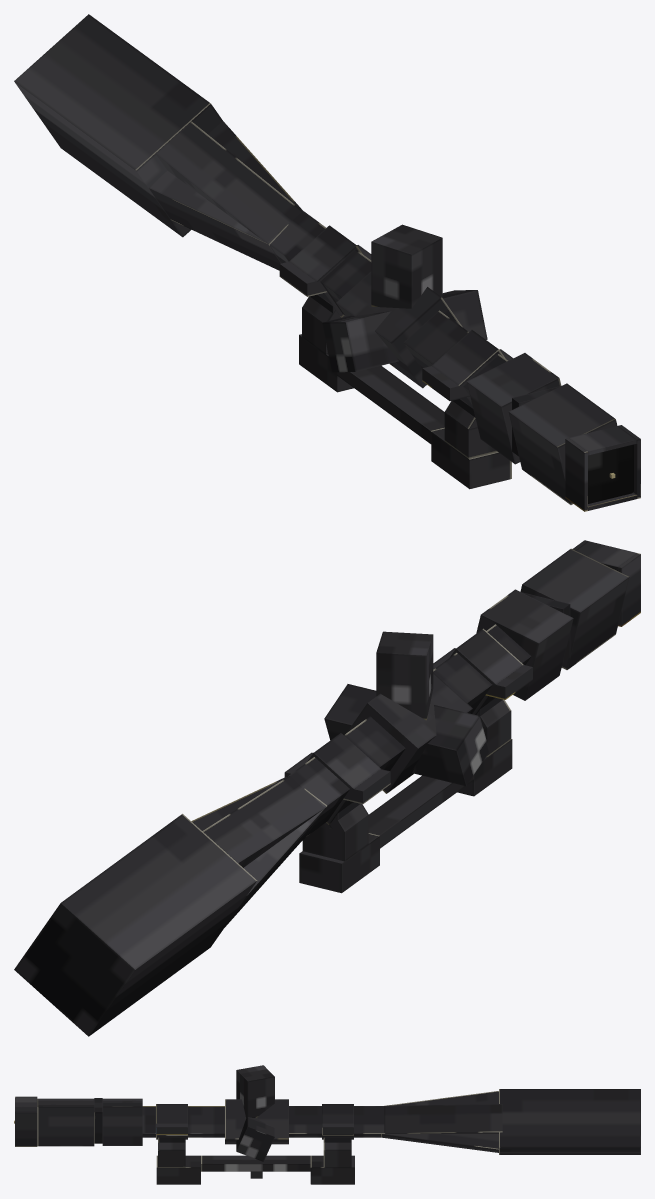
The model's file is drake scope.obj.
3 renders of one model, top to bottom at view 1: azimuth 30°, elevation 25°; view 2: azimuth 150°, elevation 25°; view 3: azimuth 270°, elevation 25°, orthographic. The views are drawn at different scales.
Parts seen in each view (by area): view 1: gun_32, scopepip_1; view 2: gun_32; view 3: gun_32.
Part boxes in pixels (<box>): gun_32: <box>14,14,640,511</box>; scopepip_1: <box>588,444,633,503</box>; gun_32: <box>14,540,640,1036</box>; gun_32: <box>15,1065,640,1184</box>.
Size of the model in its own units: 0.4688 by 0.6157 by 3.31.
